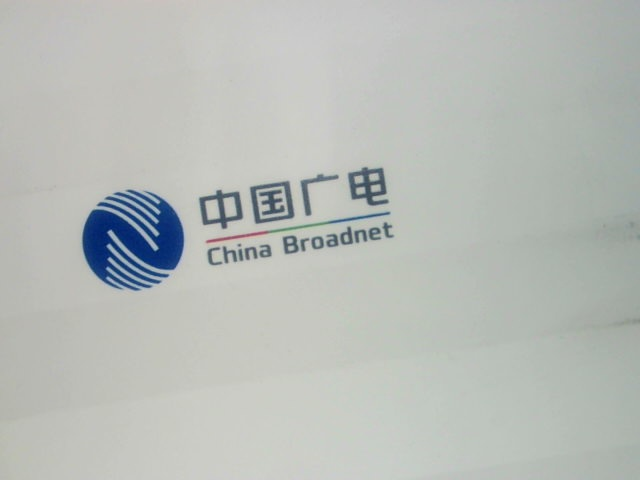AW_ChinaBroadNet: (73, 165, 416, 295)
